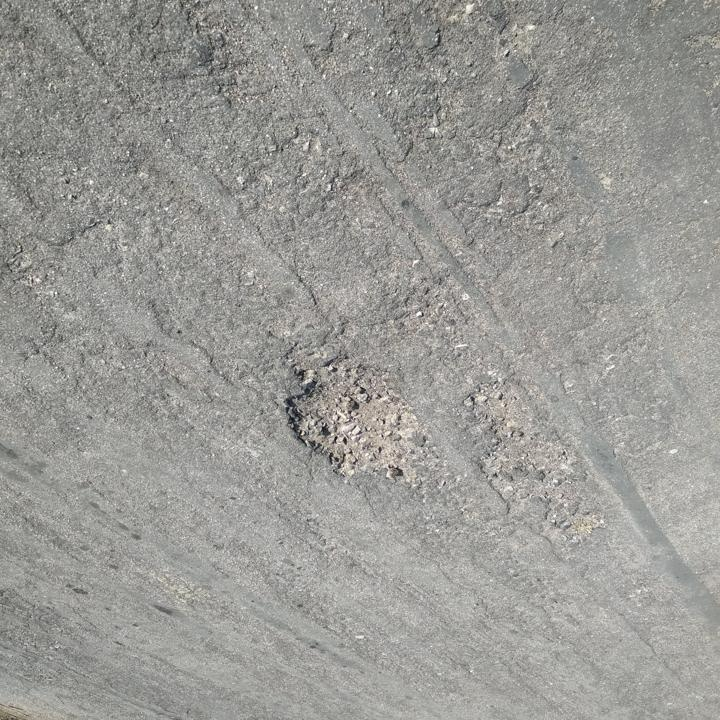pothole: (461, 375, 611, 541), (279, 354, 432, 488)
